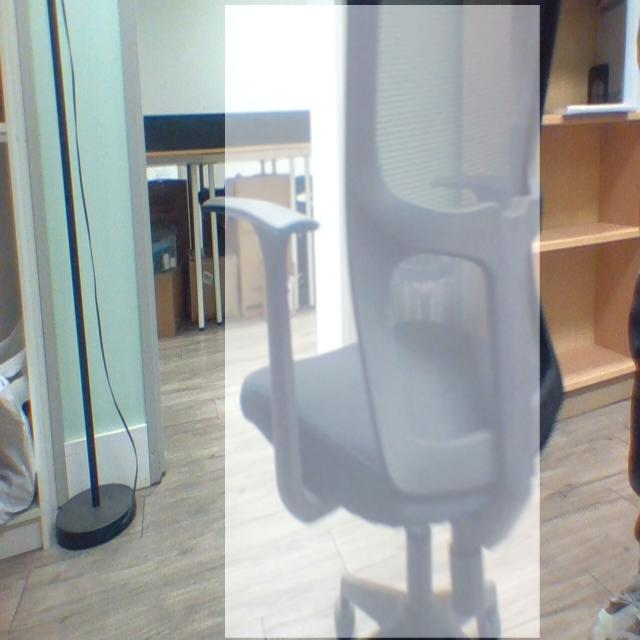black-chair: (225, 5, 541, 639)
